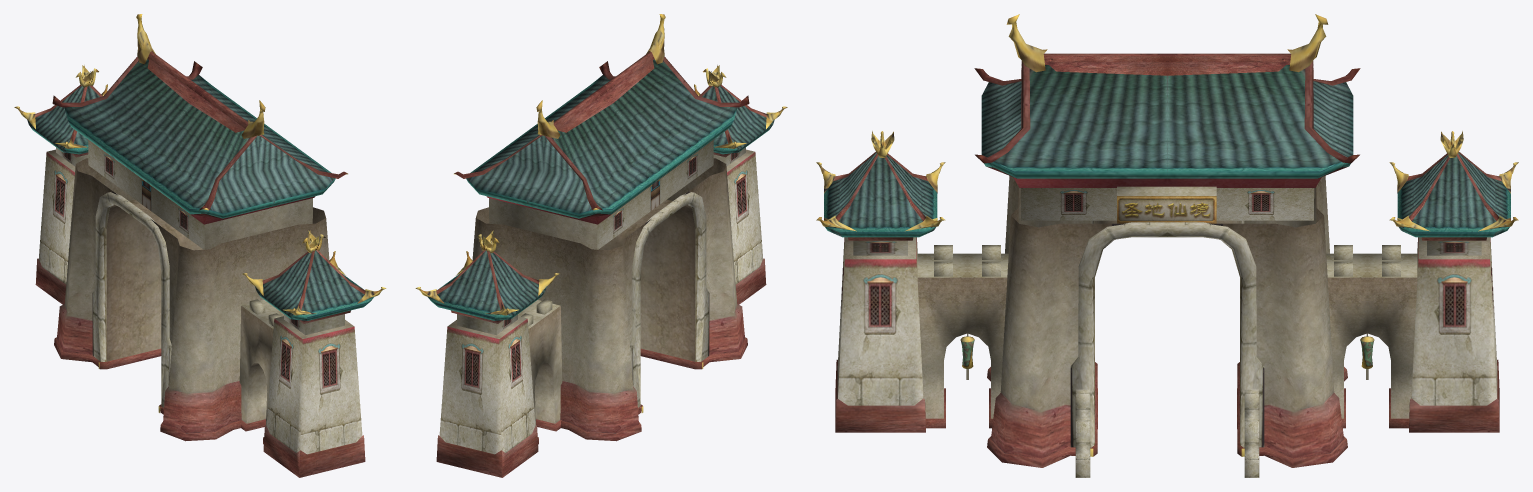
The model's file is chengmen.FBX.
3 views of the same model, side by side, from view 1: azimuth 30°, elevation 25°; view 2: azimuth 150°, elevation 25°; view 3: azimuth 270°, elevation 25° (orthographic). The views are drawn at different scales.
Parts seen in each view (by area): view 1: chengmen; view 2: chengmen; view 3: chengmen.
Part boxes in pixels (box(x1,y1,x2,y2)): chengmen: box(14, 14, 386, 477); chengmen: box(415, 14, 787, 477); chengmen: box(816, 14, 1518, 477).
Bounding box in the file's own units: 1072 × 1660 × 2649.
